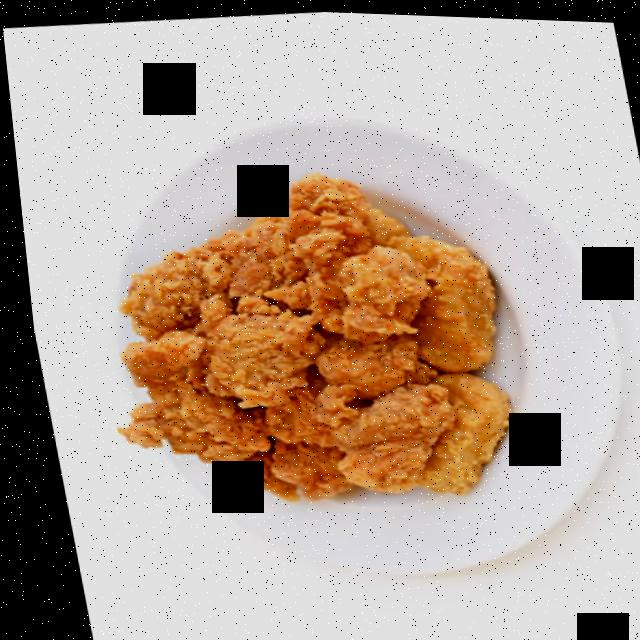Frango: (55, 146, 531, 522)
